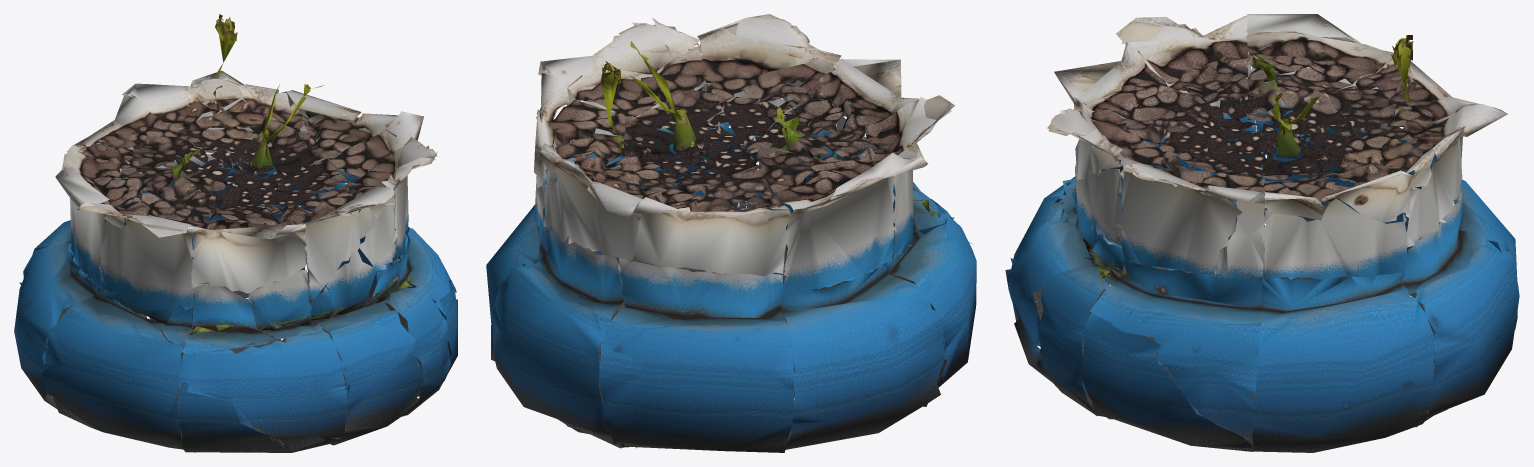
The model's file is otromasetallanta.glb.
3 views of the same model, side by side, from view 1: azimuth 30°, elevation 25°; view 2: azimuth 150°, elevation 25°; view 3: azimuth 270°, elevation 25° (orthographic). The views are drawn at different scales.
Visible parts, largest first — view 1: tripo_node_97a0f9ab-79d0-4dec-a617-5f361b98fa7f; view 2: tripo_node_97a0f9ab-79d0-4dec-a617-5f361b98fa7f; view 3: tripo_node_97a0f9ab-79d0-4dec-a617-5f361b98fa7f.
Part boxes in pixels (x1=…): tripo_node_97a0f9ab-79d0-4dec-a617-5f361b98fa7f: x1=14, y1=14, x2=457, y2=452; tripo_node_97a0f9ab-79d0-4dec-a617-5f361b98fa7f: x1=486, y1=14, x2=976, y2=452; tripo_node_97a0f9ab-79d0-4dec-a617-5f361b98fa7f: x1=1005, y1=14, x2=1519, y2=452.
Bounding box in the file's own units: 1.01 × 0.8036 × 1.02.
1 material, 1 textured.
